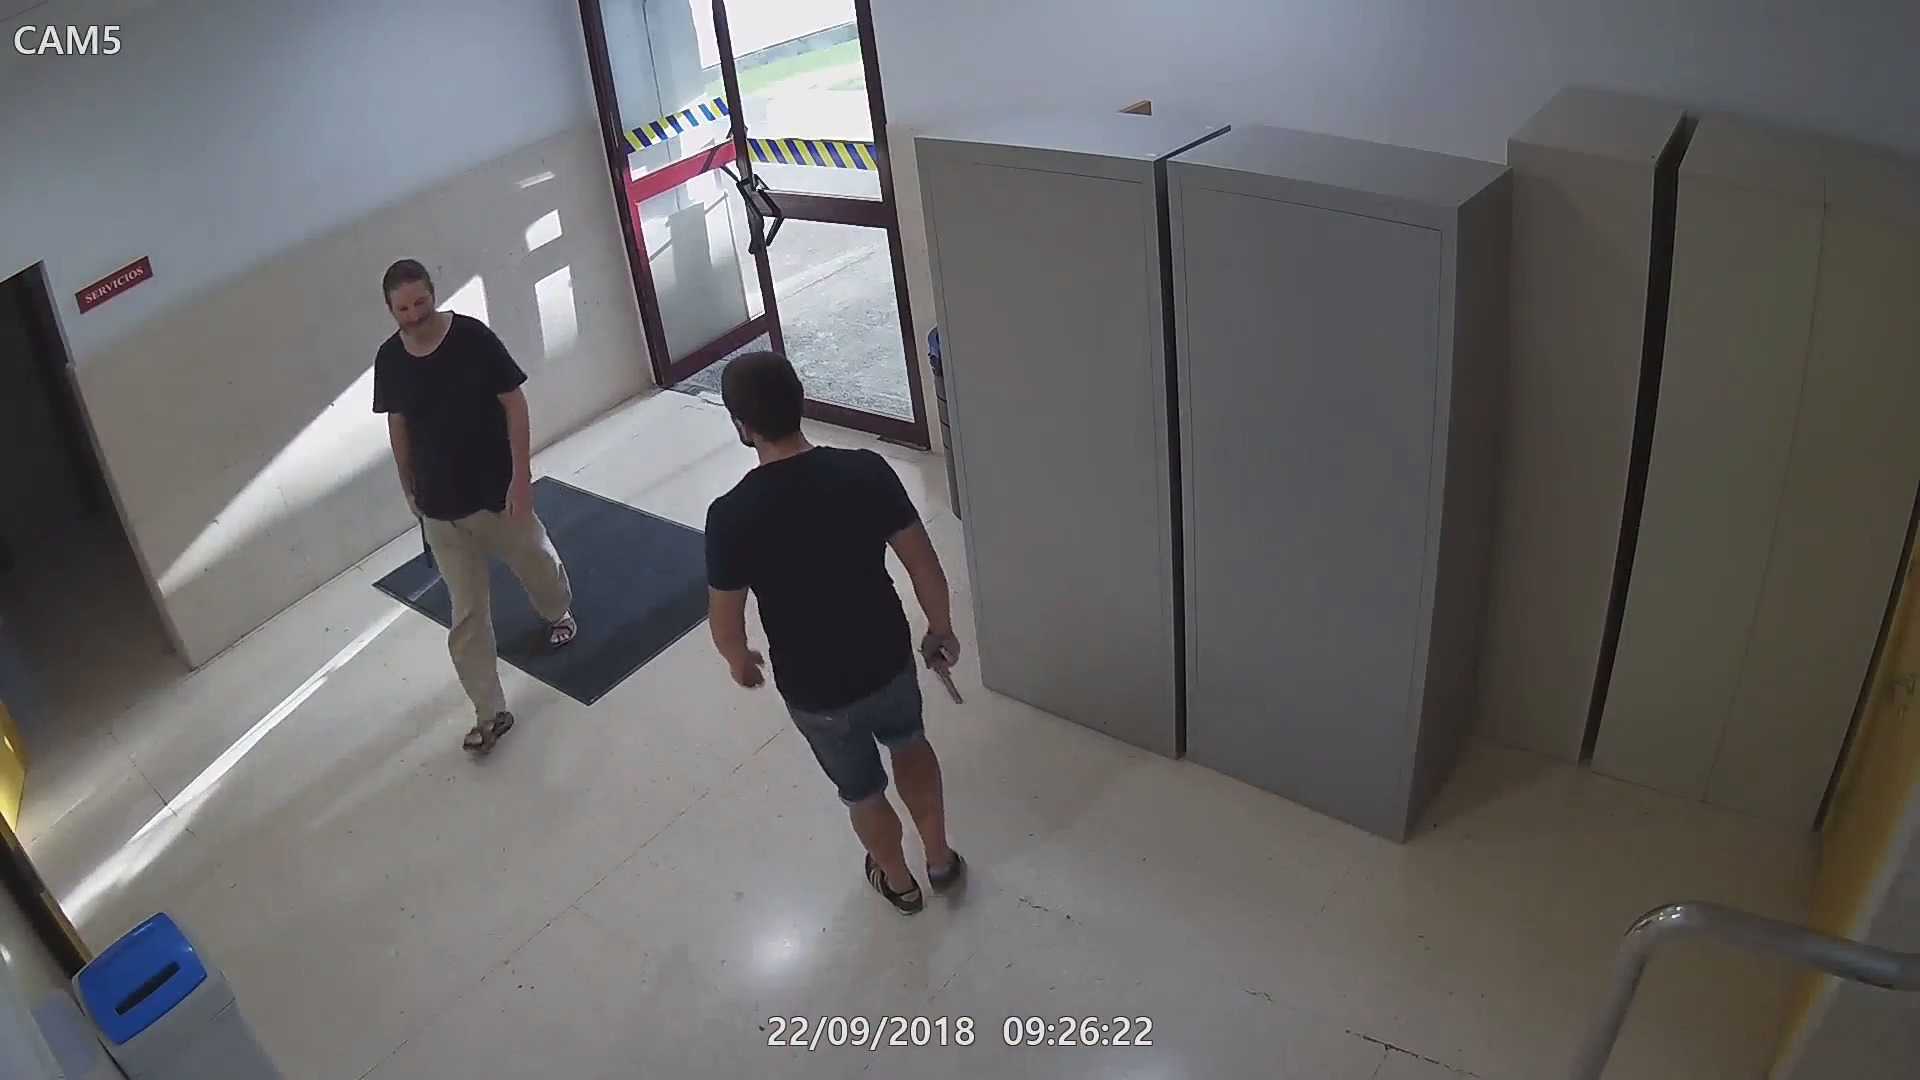Handgun: (909, 622, 973, 707)
Short_rifle: (407, 419, 438, 568)
